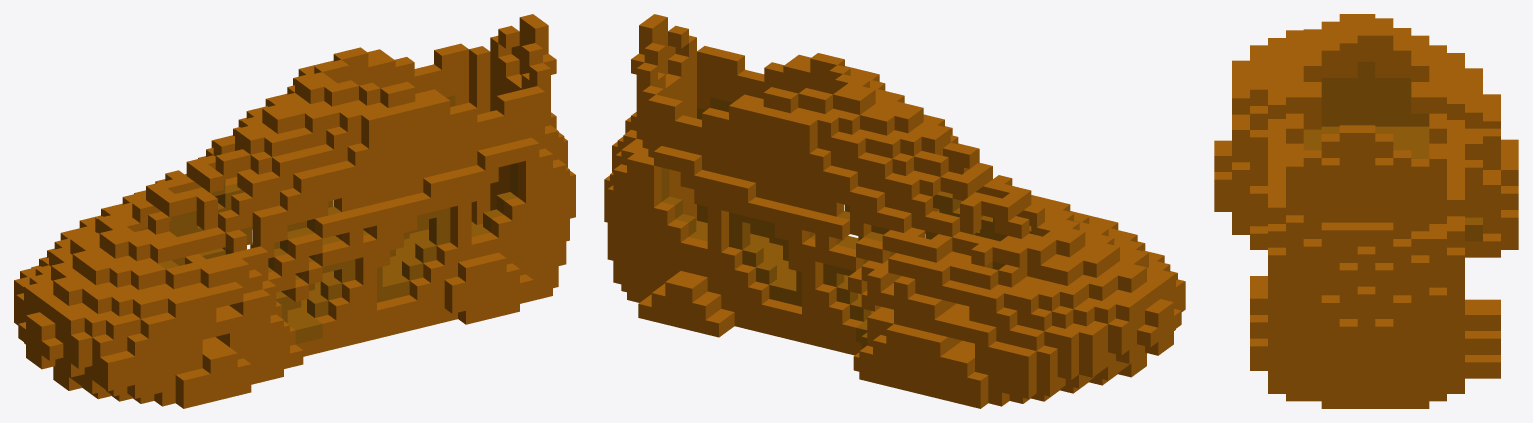
The model's file is Ochre.fbx.
The picture shows the model from 3 angles, left to right: view 1: azimuth 30°, elevation 25°; view 2: azimuth 150°, elevation 25°; view 3: azimuth 270°, elevation 25°; orthographic projection. The views are drawn at different scales.
Visible parts, largest first — view 1: Untitled; view 2: Untitled; view 3: Untitled.
Part boxes in pixels (left/top/right/bottom): Untitled: left=14, top=14, right=575, bottom=408; Untitled: left=604, top=14, right=1185, bottom=408; Untitled: left=1214, top=14, right=1518, bottom=408.
Bounding box in the file's own units: 400 × 170 × 170.
